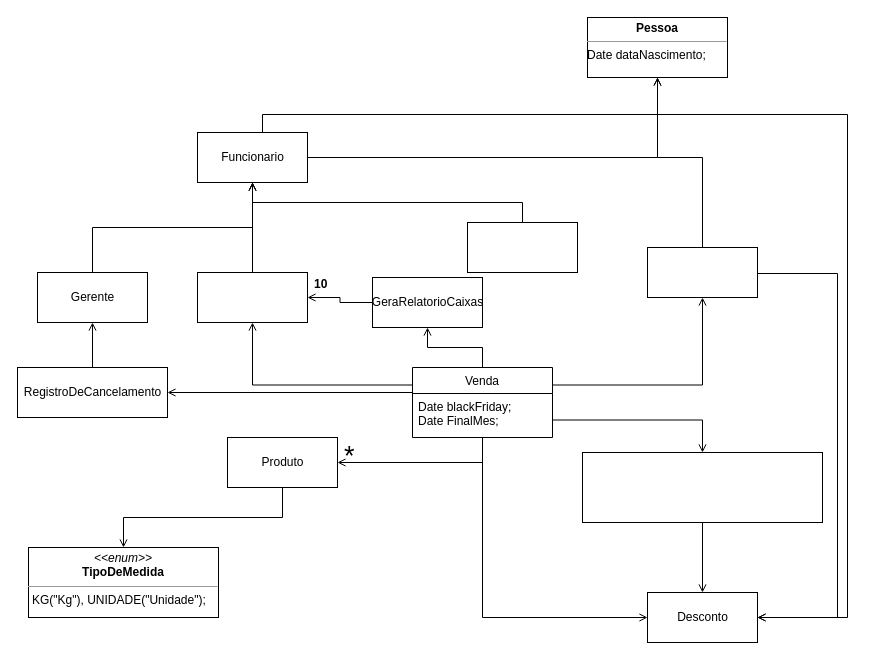
Some shapes in this 873 by 660 pixel diagram are drawn without their labels. The shapes that lost their labels are listed below. From the top down, each one's centre as x and y in pixels, then its label:
[522,247]: Repositor
[702,272]: Cliente
[252,297]: Caixa
[702,487]: <<enum>> TipoPagamento CARTAO("Cartão"), DINHEIRO("Dinheiro");
